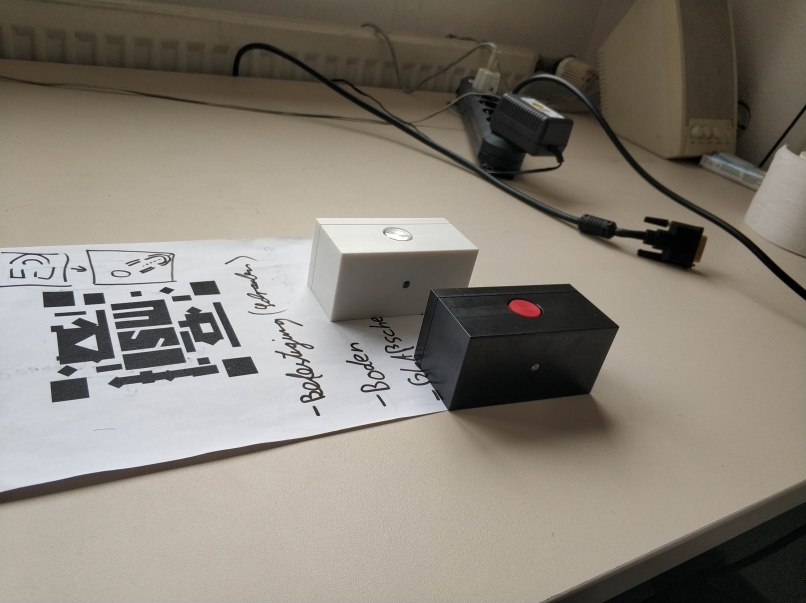black+black+red: (412, 282, 621, 415)
white+white+silver: (305, 215, 482, 322)
